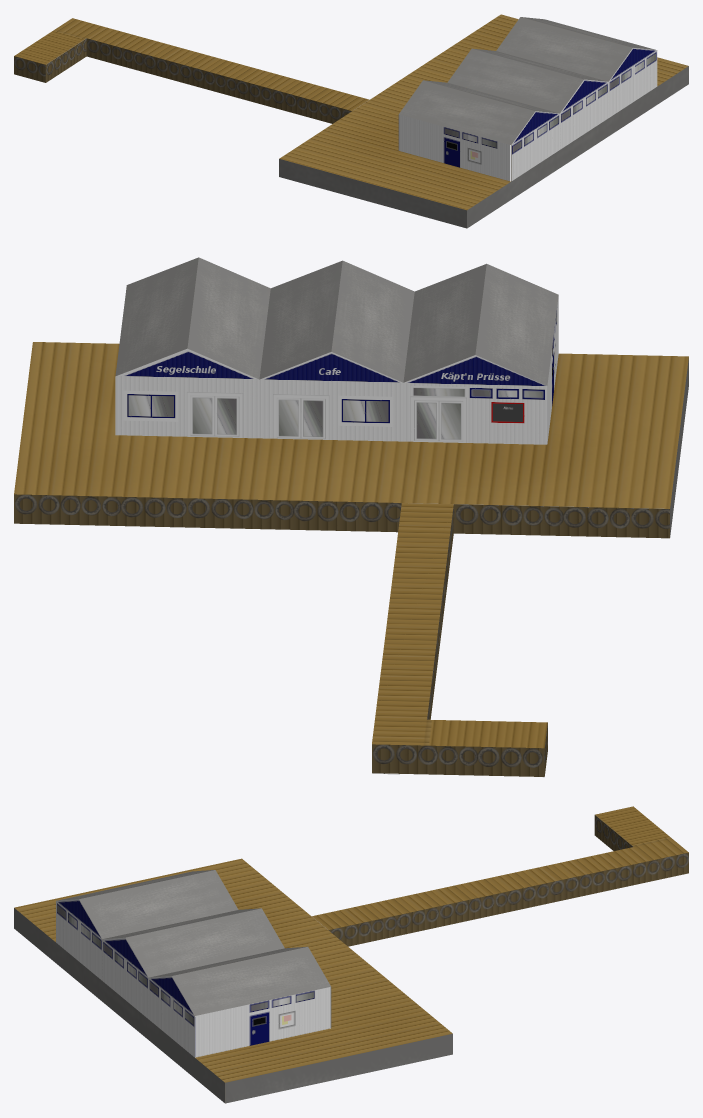
File: segelschule-pruesse.obj
3 views of the same model, one above another, from view 1: azimuth 30°, elevation 25°; view 2: azimuth 150°, elevation 25°; view 3: azimuth 270°, elevation 25° (orthographic). The views are drawn at different scales.
Parts seen in each view (by area): view 1: Cube; view 2: Cube; view 3: Cube.
Boxes of the visible parts, x1=… form: Cube: x1=14, y1=14, x2=688, y2=228; Cube: x1=14, y1=257, x2=688, y2=777; Cube: x1=14, y1=806, x2=688, y2=1103.
Size of the model in its own units: 42.72 by 6 by 44.1.
1 material, 1 textured.
